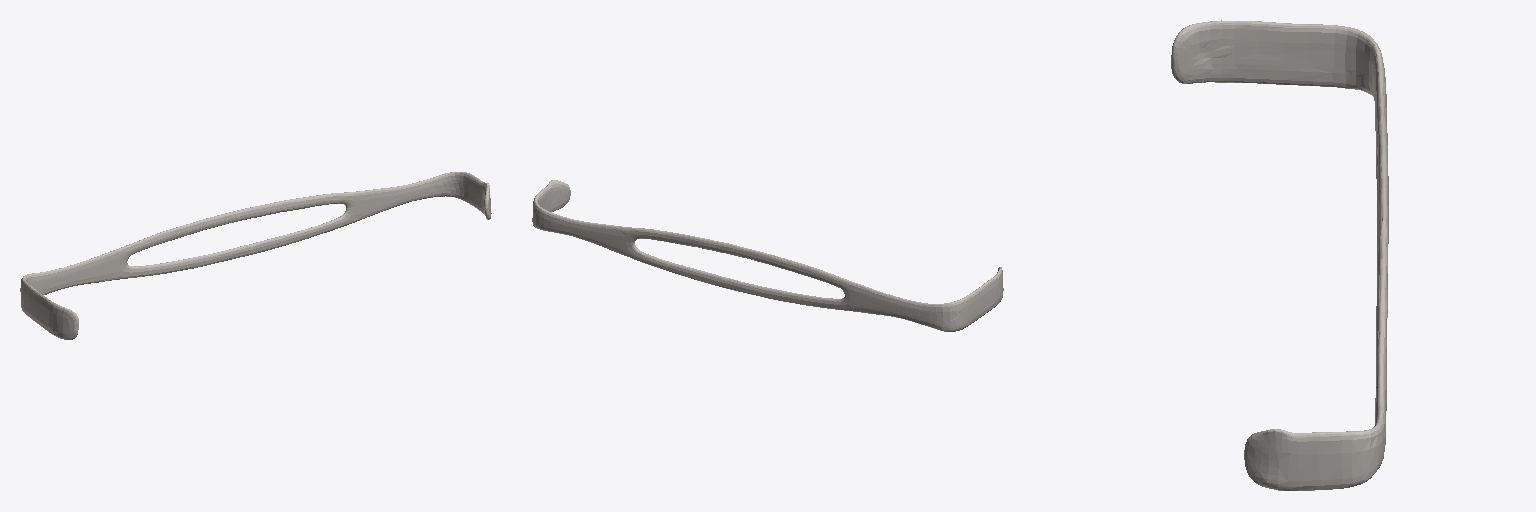
robot.urdf — Tooling_21:
<?xml version="1.0" encoding="utf-8"?>
<!-- This URDF was automatically created by SolidWorks to URDF Exporter! Originally created by Stephen Brawner (brawner@gmail.com)
     Commit Version: 1.6.0-4-g7f85cfe  Build Version: 1.6.7995.38578
     For more information, please see http://wiki.ros.org/sw_urdf_exporter -->
<robot
  name="Tooling_21">
  <link
    name="base_link">
    <inertial>
      <origin
        xyz="-4.0033E-05 -2.9805E-05 0.0072243"
        rpy="0 0 0" />
      <mass
        value="0.051285" />
      <inertia
        ixx="8.5028E-06"
        ixy="-4.5407E-08"
        ixz="1.2193E-05"
        iyy="0.000316"
        iyz="-9.7397E-08"
        izz="0.00030995" />
    </inertial>
    <visual>
      <origin
        xyz="0 0 0"
        rpy="0 0 0" />
      <geometry>
        <mesh
          filename="../meshes/base_link.STL" />
      </geometry>
      <material
        name="">
        <color
          rgba="0.77647 0.75686 0.73725 1" />
      </material>
    </visual>
    <collision>
      <origin
        xyz="0 0 0"
        rpy="0 0 0" />
      <geometry>
        <mesh
          filename="../meshes/base_link.STL" />
      </geometry>
    </collision>
  </link>
</robot>

--- Render facts (derived) ---
3 views of the same robot in one strip: view 1: azimuth 30°, elevation 25°; view 2: azimuth 150°, elevation 25°; view 3: azimuth 270°, elevation 25° (orthographic).
Model Tooling_21 with 1 links and 0 joints (none), rooted at base_link, posed every joint at zero.
Links seen in each view (by area): view 1: base_link; view 2: base_link; view 3: base_link.
Boxes of the visible links, x1,y1,x2,y2 form: base_link: [20, 172, 491, 339]; base_link: [532, 180, 1003, 331]; base_link: [1171, 20, 1388, 490].
Bounding box of the posed robot: 0.2128 × 0.0474 × 0.0213 m (x, y, z).
Meshes: 1 distinct files referenced, 1 mesh visuals loaded (1 binary STL).
